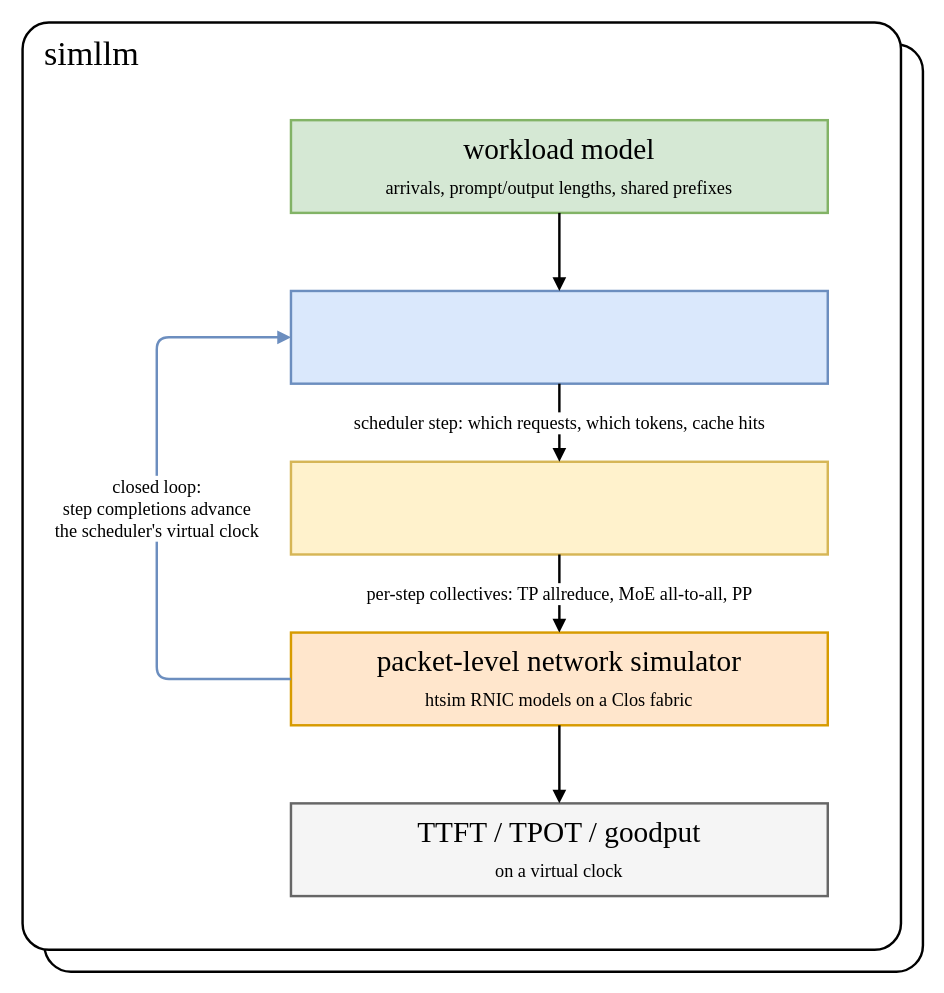
Image size: 944x993. Some labels were removed from this diagram. Each missing label, with the box of its shape:
real framework scheduler vLLM / SGLang, unmodified: (289, 289, 828, 384)
simulated GPU executor roofline, profile tables, or trace-driven service: (289, 460, 828, 555)
